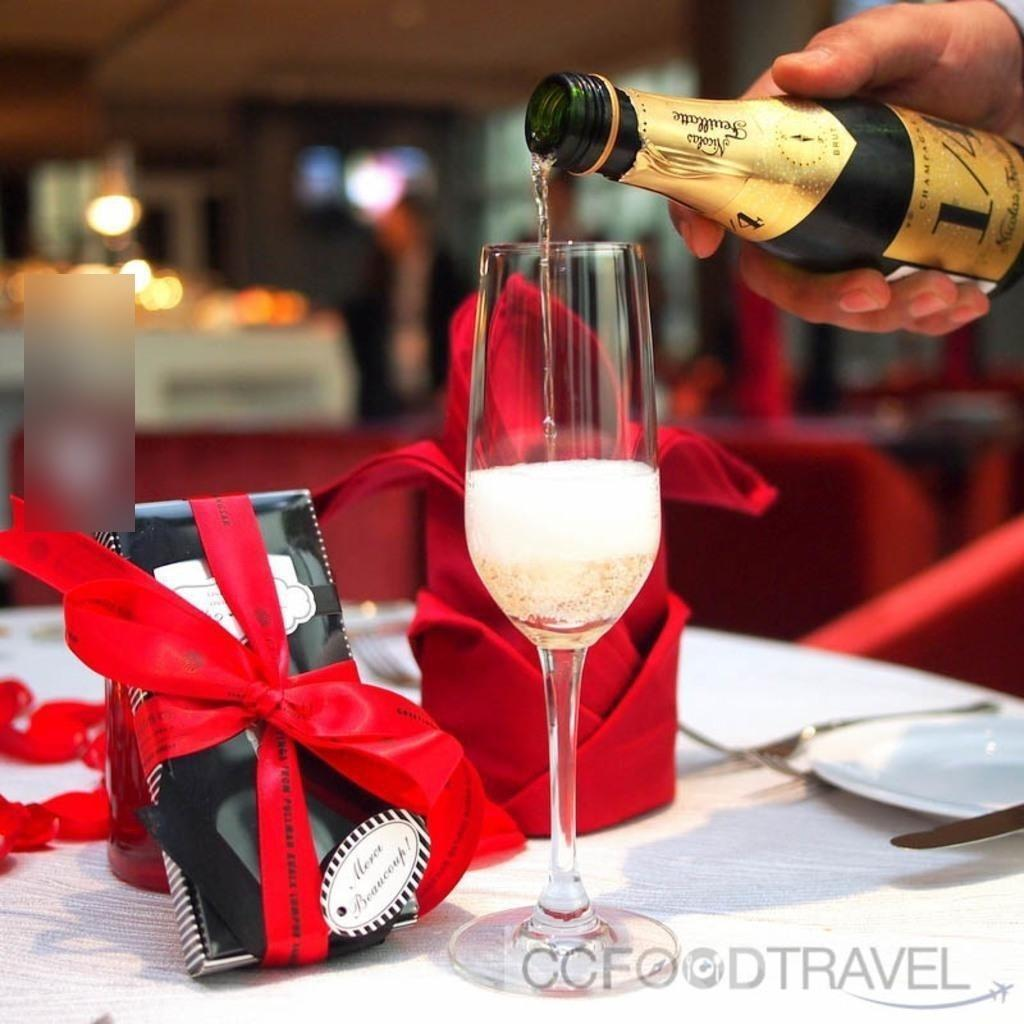bottle-glass: (522, 69, 1023, 290)
glass-wine: (450, 237, 679, 994)
